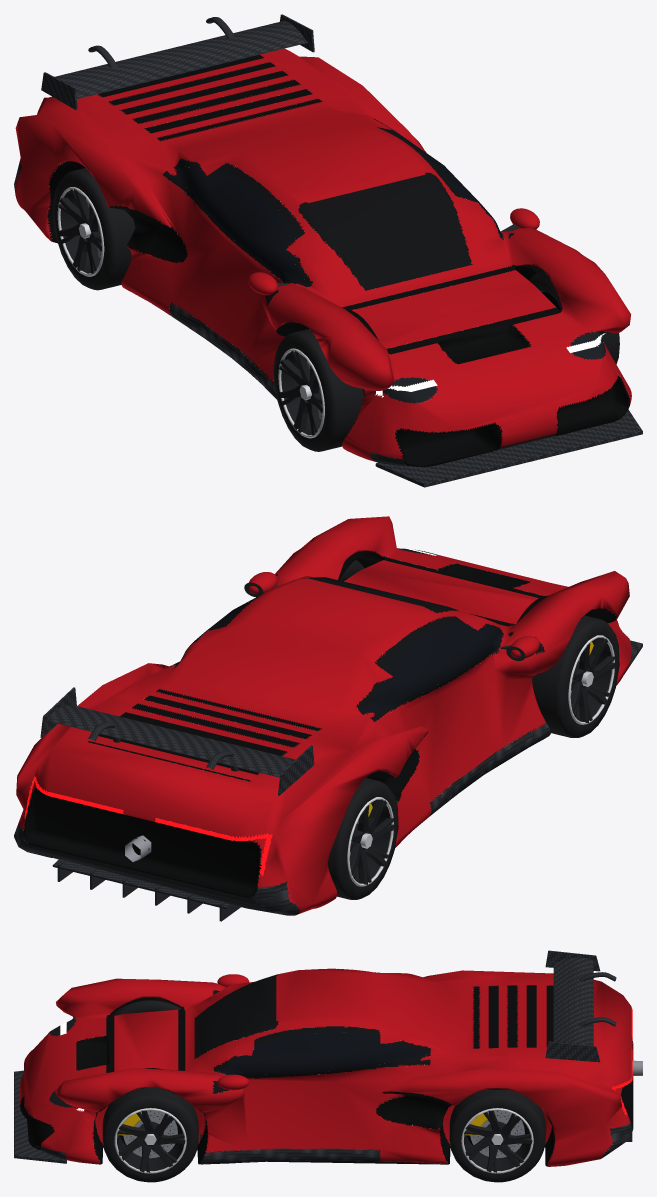
Rendered from optimized_exotic_supercar_v4_LOD1.glb.
3 renders of one model, top to bottom at view 1: azimuth 30°, elevation 25°; view 2: azimuth 150°, elevation 25°; view 3: azimuth 270°, elevation 25°, orthographic. The views are drawn at different scales.
Visible parts, largest first — view 1: Body_Paint, Intakes_And_Vents, Window_Trim, Active_Rear_Wing, Body_Glass, Front_Splitter, Wheel_FR_Tyre_Mesh, Wheel_RR_Tyre_Mesh, Wheel_RR_Rim_Mesh, Wheel_FR_Rim_Mesh, Body_Carbon, Headlight_Housings (+2 smaller); view 2: Body_Paint, Intakes_And_Vents, Active_Rear_Wing, Body_Glass, Body_Carbon, Wheel_FR_Tyre_Mesh, Window_Trim, Wheel_RR_Tyre_Mesh, Front_Splitter, Wheel_RR_Rim_Mesh, Wheel_FR_Rim_Mesh, Taillight_LEDs (+4 smaller); view 3: Body_Paint, Intakes_And_Vents, Window_Trim, Body_Glass, Active_Rear_Wing, Wheel_FL_Tyre_Mesh, Wheel_RL_Tyre_Mesh, Body_Carbon, Wheel_FL_Rim_Mesh, Wheel_RL_Rim_Mesh, Front_Splitter, Wheel_RL_BrakeDisc_Mesh (+6 smaller).
Boxes of the visible parts, x1=… form: Body_Paint: x1=15, y1=48, x2=631, y2=461; Intakes_And_Vents: x1=47, y1=54, x2=629, y2=466; Window_Trim: x1=163, y1=119, x2=513, y2=305; Active_Rear_Wing: x1=41, y1=14, x2=314, y2=110; Body_Glass: x1=174, y1=124, x2=510, y2=298; Front_Splitter: x1=375, y1=409, x2=642, y2=487; Wheel_FR_Tyre_Mesh: x1=273, y1=329, x2=363, y2=451; Wheel_RR_Tyre_Mesh: x1=53, y1=168, x2=135, y2=290; Wheel_RR_Rim_Mesh: x1=58, y1=189, x2=101, y2=273; Wheel_FR_Rim_Mesh: x1=279, y1=351, x2=322, y2=435; Body_Carbon: x1=14, y1=161, x2=630, y2=466; Headlight_Housings: x1=382, y1=331, x2=617, y2=403; Body_Paint: x1=16, y1=516, x2=631, y2=913; Intakes_And_Vents: x1=23, y1=550, x2=624, y2=898; Active_Rear_Wing: x1=40, y1=687, x2=314, y2=795; Body_Glass: x1=175, y1=580, x2=511, y2=713; Body_Carbon: x1=14, y1=658, x2=630, y2=915; Wheel_FR_Tyre_Mesh: x1=532, y1=615, x2=619, y2=737; Window_Trim: x1=166, y1=574, x2=544, y2=721; Wheel_RR_Tyre_Mesh: x1=328, y1=778, x2=398, y2=899; Front_Splitter: x1=52, y1=640, x2=642, y2=921; Wheel_RR_Rim_Mesh: x1=349, y1=799, x2=394, y2=884; Wheel_FR_Rim_Mesh: x1=570, y1=637, x2=615, y2=722; Taillight_LEDs: x1=24, y1=776, x2=272, y2=876; Body_Paint: x1=20, y1=968, x2=632, y2=1166; Intakes_And_Vents: x1=20, y1=985, x2=633, y2=1166; Window_Trim: x1=194, y1=974, x2=430, y2=1093; Body_Glass: x1=216, y1=972, x2=426, y2=1088; Active_Rear_Wing: x1=545, y1=950, x2=616, y2=1062; Wheel_FL_Tyre_Mesh: x1=102, y1=1087, x2=198, y2=1182; Wheel_RL_Tyre_Mesh: x1=449, y1=1089, x2=545, y2=1182; Body_Carbon: x1=34, y1=1043, x2=633, y2=1164; Wheel_FL_Rim_Mesh: x1=117, y1=1110, x2=185, y2=1172; Wheel_RL_Rim_Mesh: x1=464, y1=1110, x2=532, y2=1172; Front_Splitter: x1=14, y1=1070, x2=632, y2=1163; Wheel_RL_BrakeDisc_Mesh: x1=470, y1=1110, x2=524, y2=1158.
Bounding box in the file's own units: 1.99 × 1.13 × 4.71.
15 materials, 2 textured.
